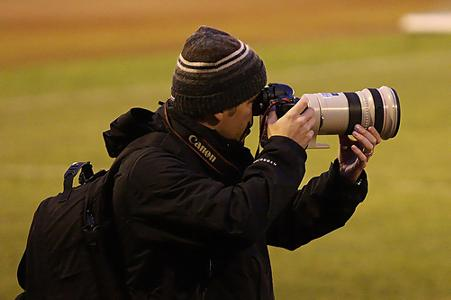person: (101, 25, 384, 299)
